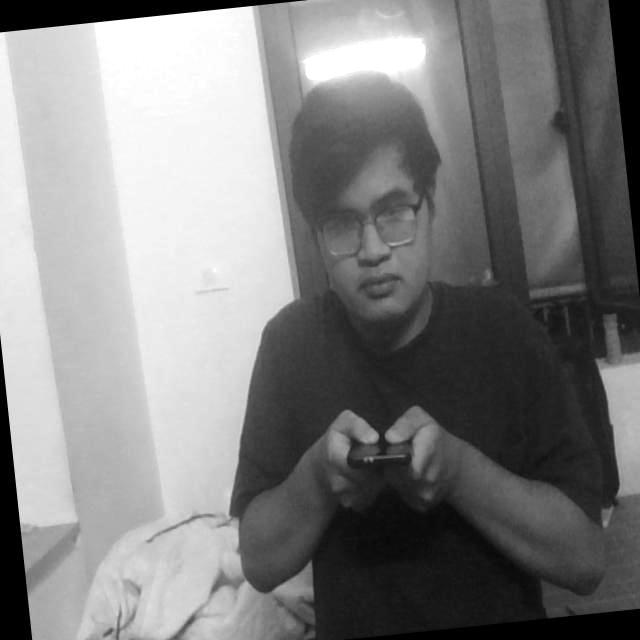phone: (341, 412, 426, 502)
